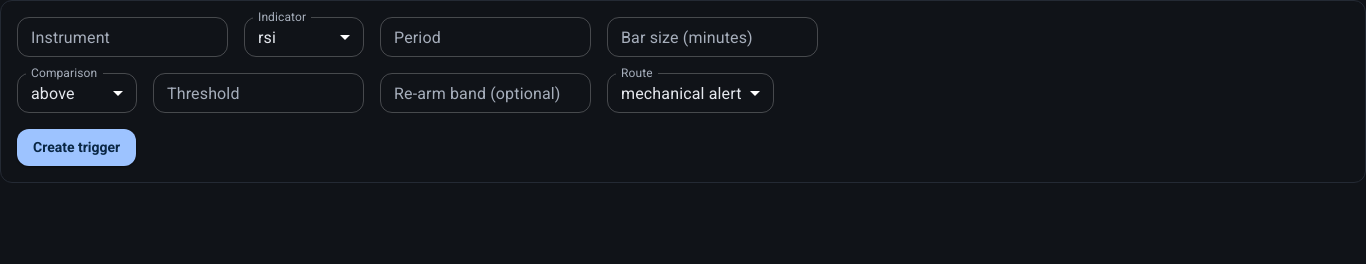
Test: TriggerForm › refuses a Bar size that is not a number (garbage becomes NaN, which serialises to null)
Type "ES" into the field labelled "Instrument".
click(122, 37); type("ES")  # box [17, 17, 228, 57]
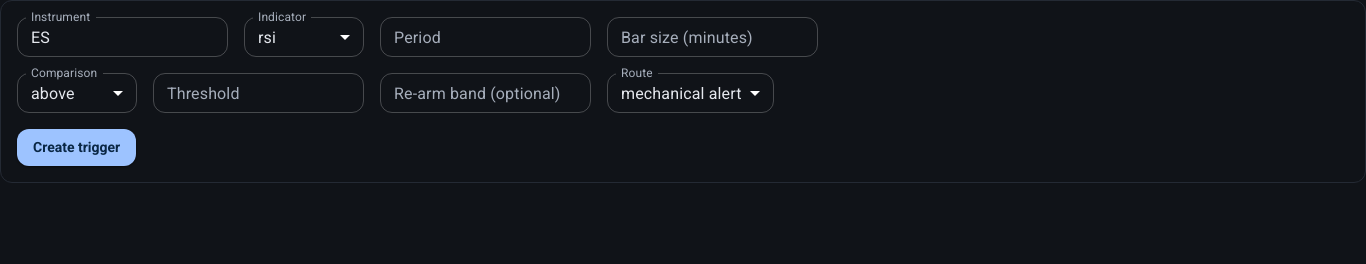
Type "14" into the field labelled "Period".
click(486, 37); type("14")  # box [380, 17, 591, 57]
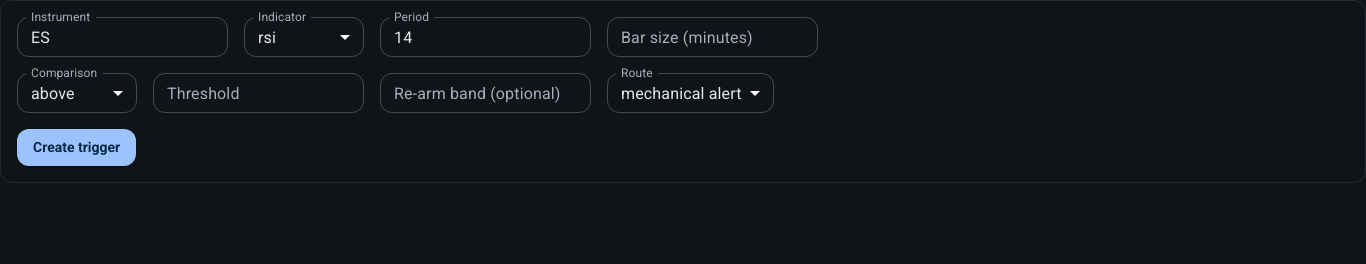
Type "5" into the field labelled "Bar size (minutes)".
click(712, 37); type("5")  # box [607, 17, 818, 57]
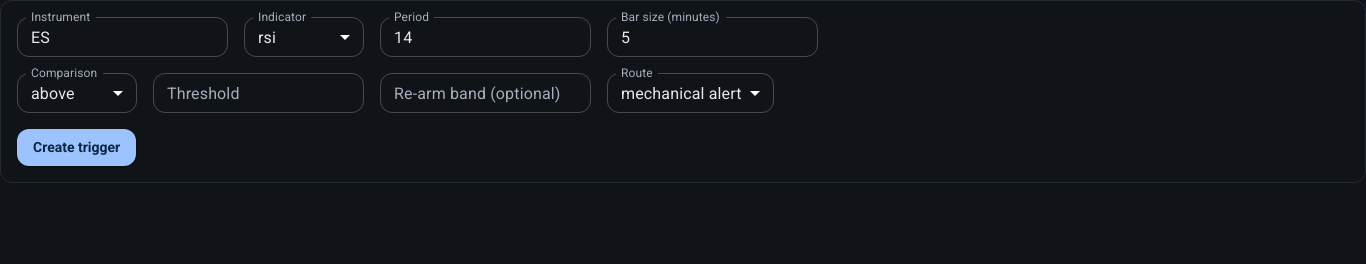
Type "70" into the field labelled "Threshold".
click(258, 93); type("70")  # box [153, 73, 364, 113]
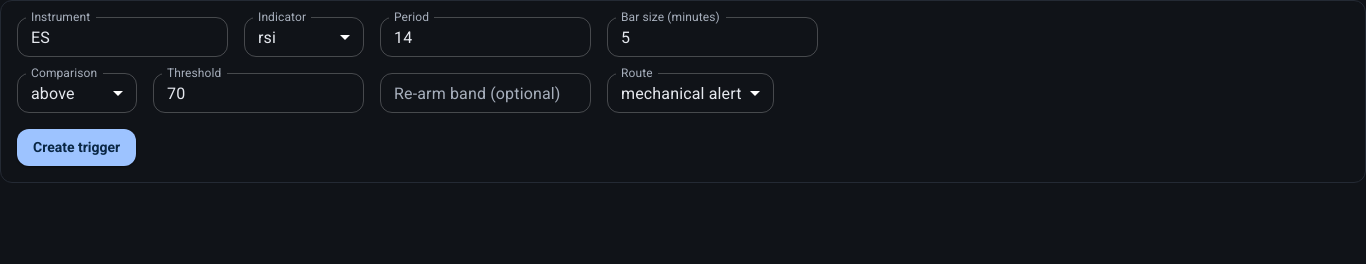
Replace the text in the field labelled "Bar size (minutes)" with "x" at (712, 37), box [607, 17, 818, 57]
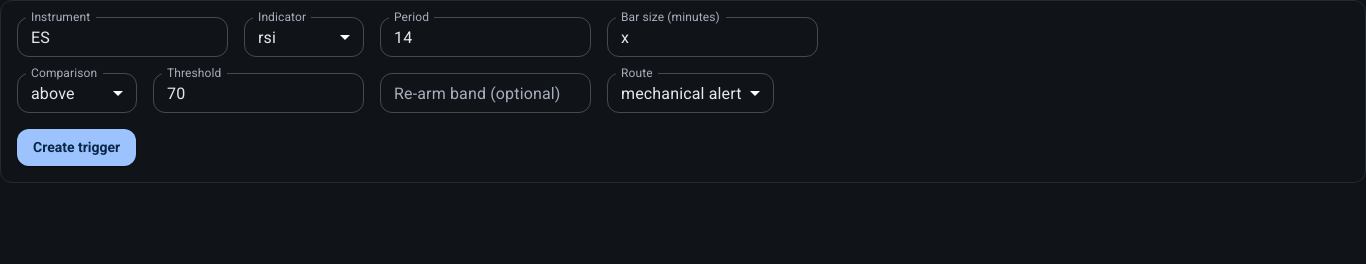
Click the button "Create trigger".
click(77, 147)  # box [17, 129, 136, 166]
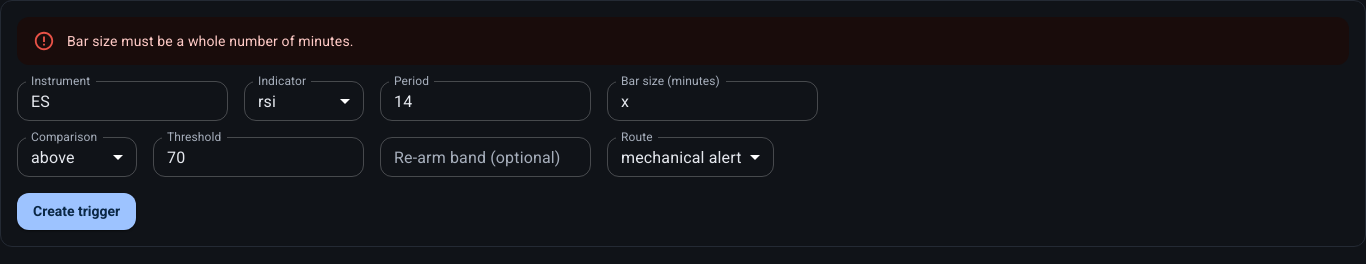
Expected: the message "Bar size must be a whole number of minutes." is shown, [17, 17, 1349, 65]
